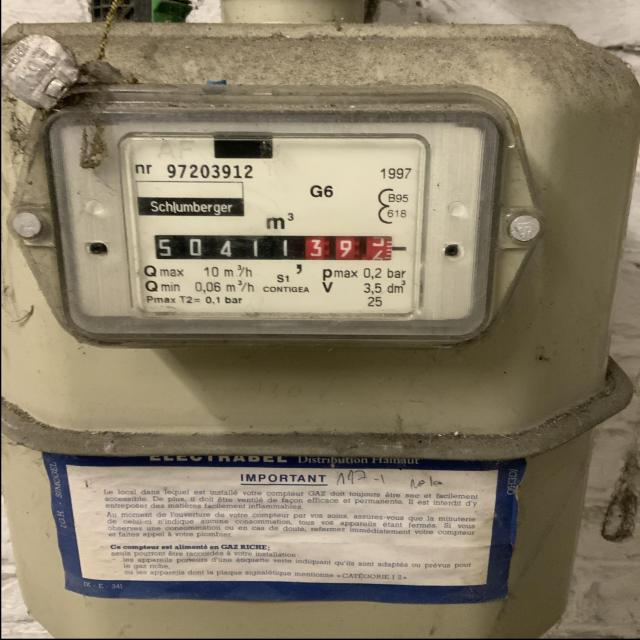gaz_meter: (125, 133, 423, 317)
indication: (152, 233, 394, 260)
